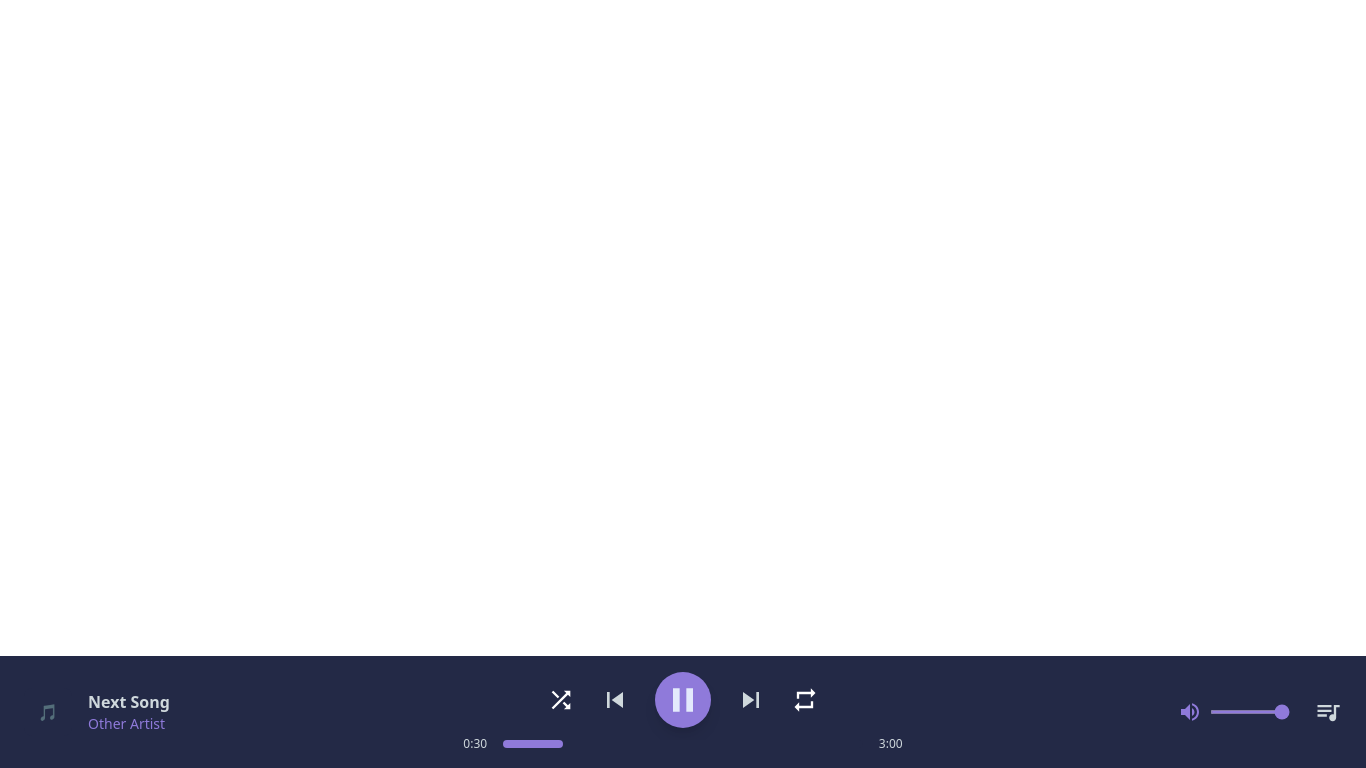
Test: Player › should go to previous track on prev click
Click the button titled "Previous" at (615, 700), box [599,684,631,716]
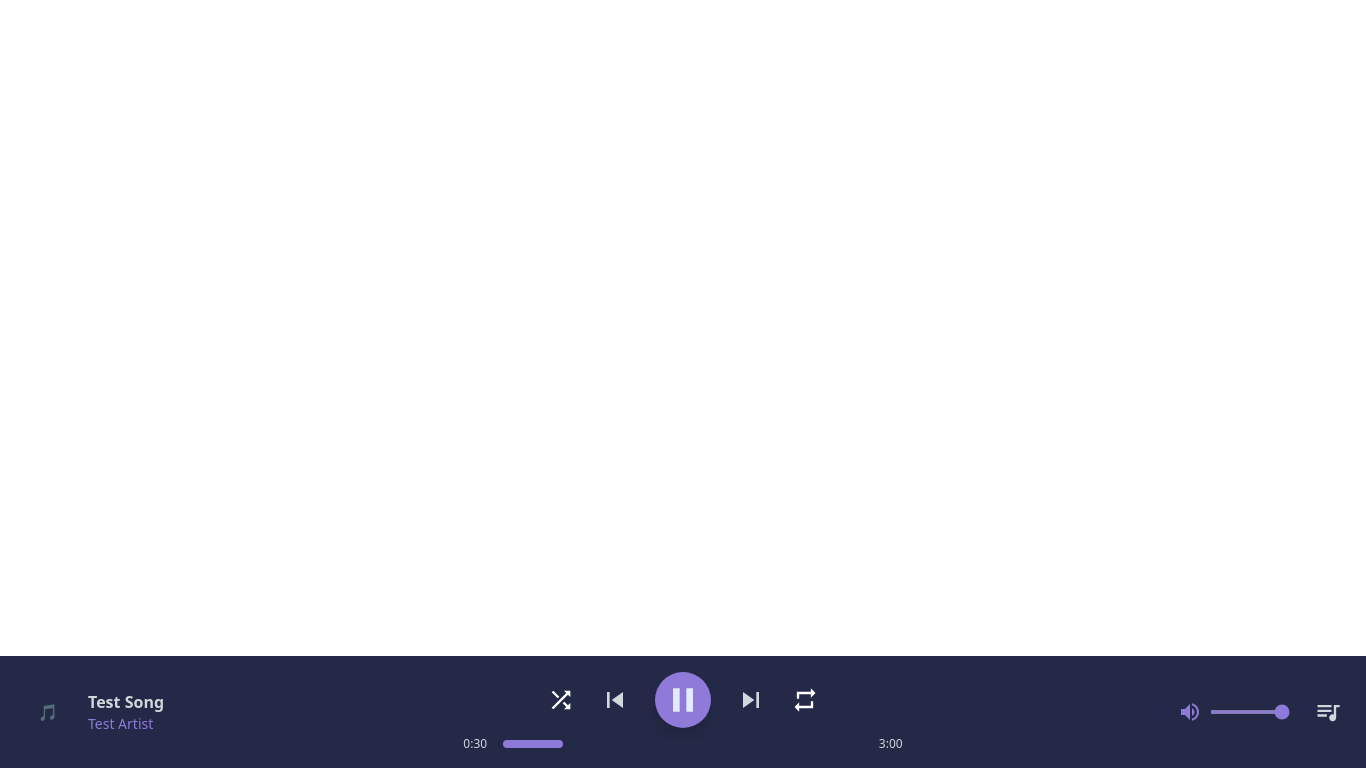
Now the text "Test Song" is shown, box [88,690,164,714]
